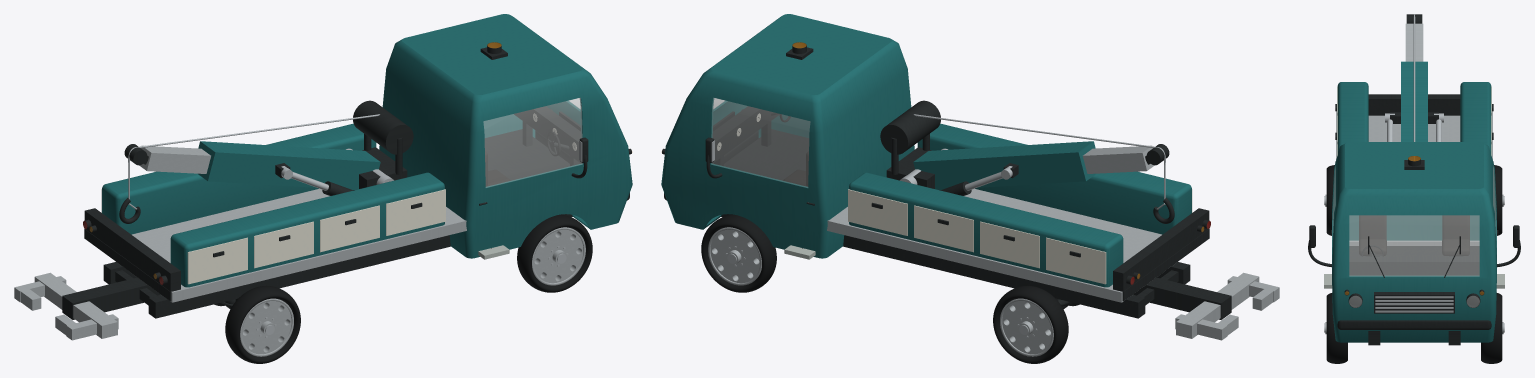
The model's file is tow-truck.glb.
The picture shows the model from 3 angles, left to right: view 1: azimuth 30°, elevation 25°; view 2: azimuth 150°, elevation 25°; view 3: azimuth 270°, elevation 25°; orthographic projection. The views are drawn at different scales.
Parts seen in each view (by area): view 1: Sculpted hollow cab with wheel arches and window apertures, Recovery body toolbox 1, Recovery body toolbox -1, Cab fitted finite right side glass, Recovery deck seated on chassis, Raised main recovery boom, Chassis longitudinal boxed rail -1, Cab seated closed floor, Rear lamp seated mounting transom, Axle 2 wheel -1 rounded tyre carcass, Axle 1 wheel -1 rounded tyre carcass, Locker finite door -1 0 (+14 smaller); view 2: Sculpted hollow cab with wheel arches and window apertures, Recovery body toolbox -1, Recovery body toolbox 1, Cab fitted finite left side glass, Recovery deck seated on chassis, Raised main recovery boom, Chassis longitudinal boxed rail 1, Cab seated closed floor, Rear lamp seated mounting transom, Axle 2 wheel 1 rounded tyre carcass, Axle 1 wheel 1 rounded tyre carcass, Locker finite door 1 0 (+14 smaller); view 3: Sculpted hollow cab with wheel arches and window apertures, Cab fitted finite windscreen glass, Cab full width instrument bridge, Raised main recovery boom, Recovery body toolbox 1, Recovery body toolbox -1, Recovery deck seated on chassis, Seated rounded front bumper, Rear lamp seated mounting transom, Finite seated radiator grille backing, Cab seated closed floor, Axle 1 wheel 1 rounded tyre carcass (+14 smaller).
Boxes of the visible parts, bbox=[...] form: Sculpted hollow cab with wheel arches and window apertures: bbox=[379, 14, 632, 258]; Recovery body toolbox 1: bbox=[102, 123, 376, 234]; Recovery body toolbox -1: bbox=[170, 172, 444, 287]; Cab fitted finite right side glass: bbox=[483, 98, 582, 187]; Recovery deck seated on chassis: bbox=[84, 188, 466, 302]; Raised main recovery boom: bbox=[198, 141, 380, 189]; Chassis longitudinal boxed rail -1: bbox=[148, 214, 572, 318]; Cab seated closed floor: bbox=[484, 129, 569, 180]; Rear lamp seated mounting transom: bbox=[84, 208, 180, 296]; Axle 2 wheel -1 rounded tyre carcass: bbox=[225, 285, 300, 363]; Axle 1 wheel -1 rounded tyre carcass: bbox=[517, 214, 592, 292]; Locker finite door -1 0: bbox=[187, 237, 247, 284]; Sculpted hollow cab with wheel arches and window apertures: bbox=[661, 14, 914, 258]; Recovery body toolbox -1: bbox=[917, 123, 1191, 234]; Recovery body toolbox 1: bbox=[849, 172, 1123, 287]; Cab fitted finite left side glass: bbox=[711, 98, 810, 187]; Recovery deck seated on chassis: bbox=[827, 188, 1209, 302]; Raised main recovery boom: bbox=[913, 141, 1095, 189]; Chassis longitudinal boxed rail 1: bbox=[721, 214, 1145, 318]; Cab seated closed floor: bbox=[724, 129, 809, 180]; Rear lamp seated mounting transom: bbox=[1113, 208, 1209, 296]; Axle 2 wheel 1 rounded tyre carcass: bbox=[993, 285, 1068, 363]; Axle 1 wheel 1 rounded tyre carcass: bbox=[701, 214, 776, 292]; Locker finite door 1 0: bbox=[1046, 237, 1106, 284]; Sculpted hollow cab with wheel arches and window apertures: bbox=[1332, 142, 1496, 342]; Cab fitted finite windscreen glass: bbox=[1349, 215, 1479, 276]; Cab full width instrument bridge: bbox=[1349, 256, 1479, 275]; Raised main recovery boom: bbox=[1401, 61, 1427, 141]; Recovery body toolbox 1: bbox=[1460, 82, 1491, 153]; Recovery body toolbox -1: bbox=[1337, 82, 1368, 153]; Recovery deck seated on chassis: bbox=[1336, 111, 1492, 245]; Seated rounded front bumper: bbox=[1337, 320, 1491, 329]; Rear lamp seated mounting transom: bbox=[1368, 94, 1460, 115]; Finite seated radiator grille backing: bbox=[1374, 292, 1454, 313]; Cab seated closed floor: bbox=[1349, 246, 1479, 256]; Axle 1 wheel 1 rounded tyre carcass: bbox=[1481, 293, 1502, 363].
Bounding box in the file's own units: 7.92 × 3 × 2.97.
Materials: 13 (13 with a texture image).
